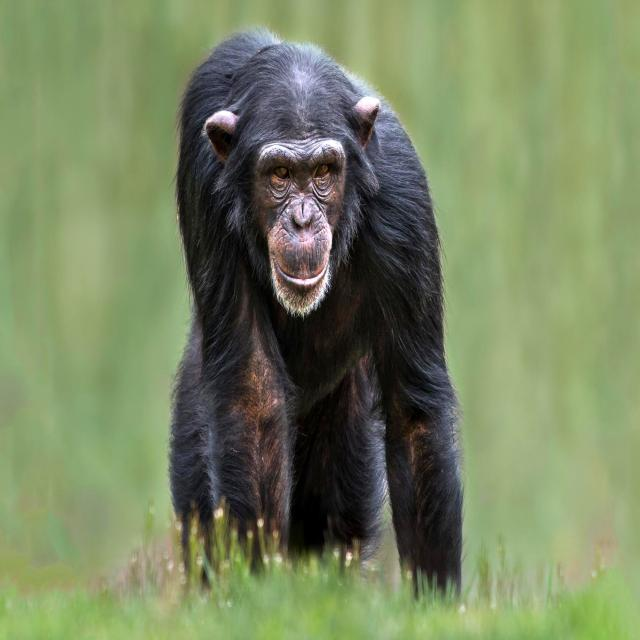chimpanzee: (169, 30, 463, 595)
